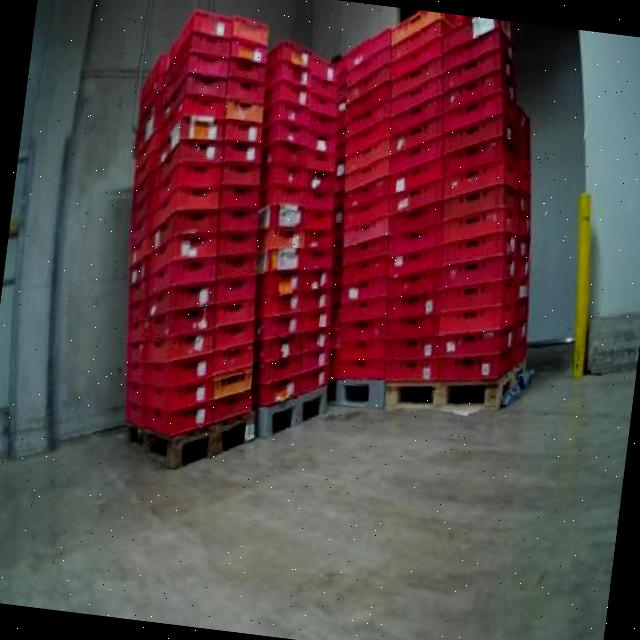pallet: (381, 351, 542, 418), (114, 404, 255, 474), (258, 380, 326, 440)
